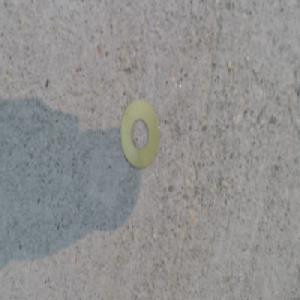Washer: (120, 100, 160, 173)
